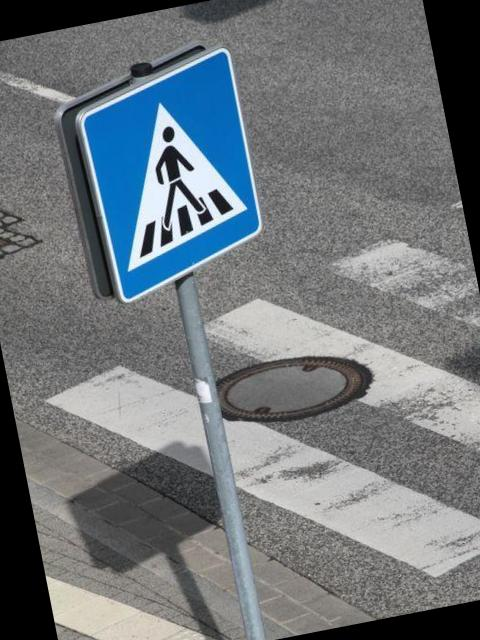crosswalk-sign: (65, 43, 276, 307)
